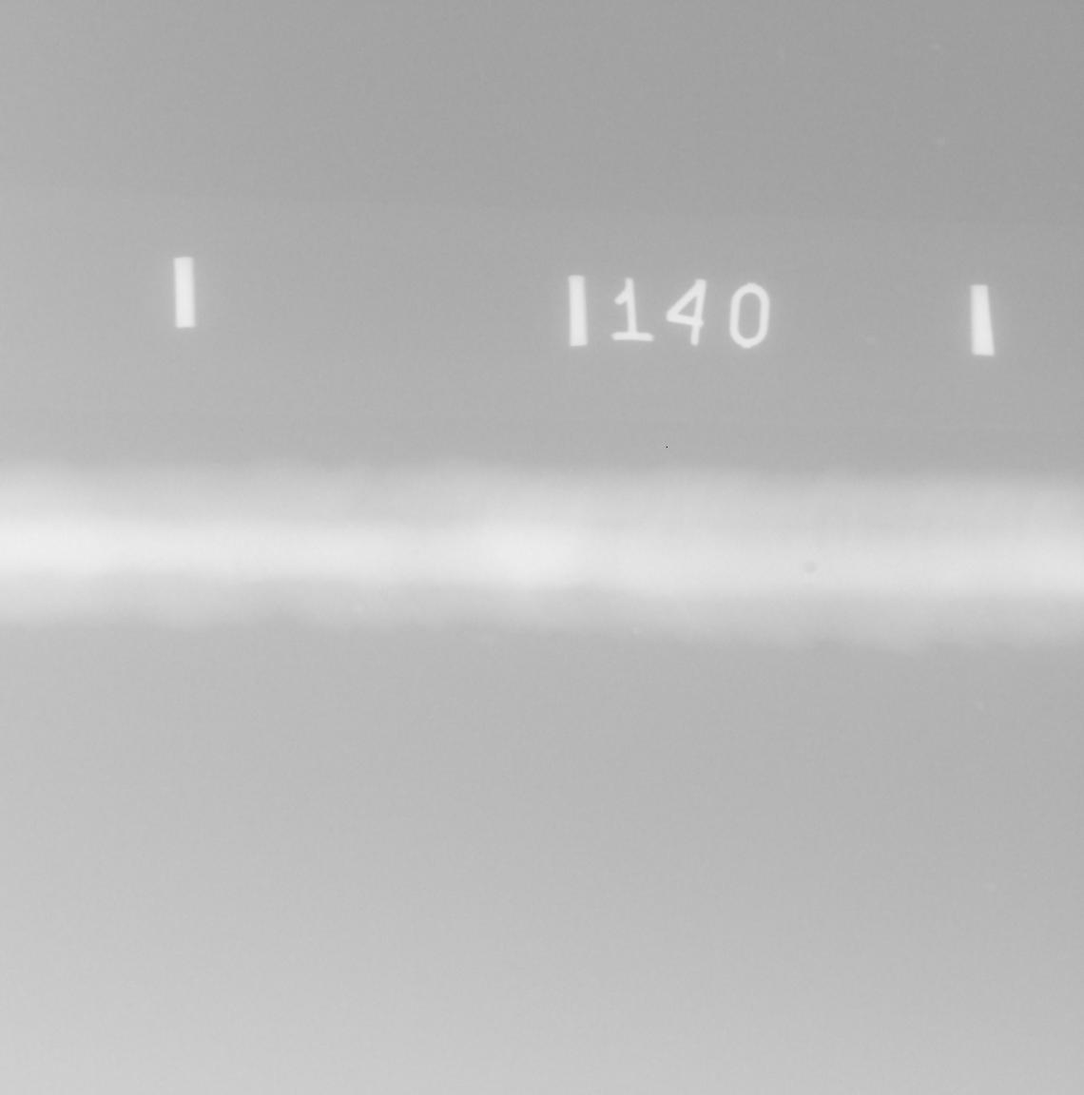Pore/Porosity: (800, 560, 817, 574), (412, 548, 421, 557)
